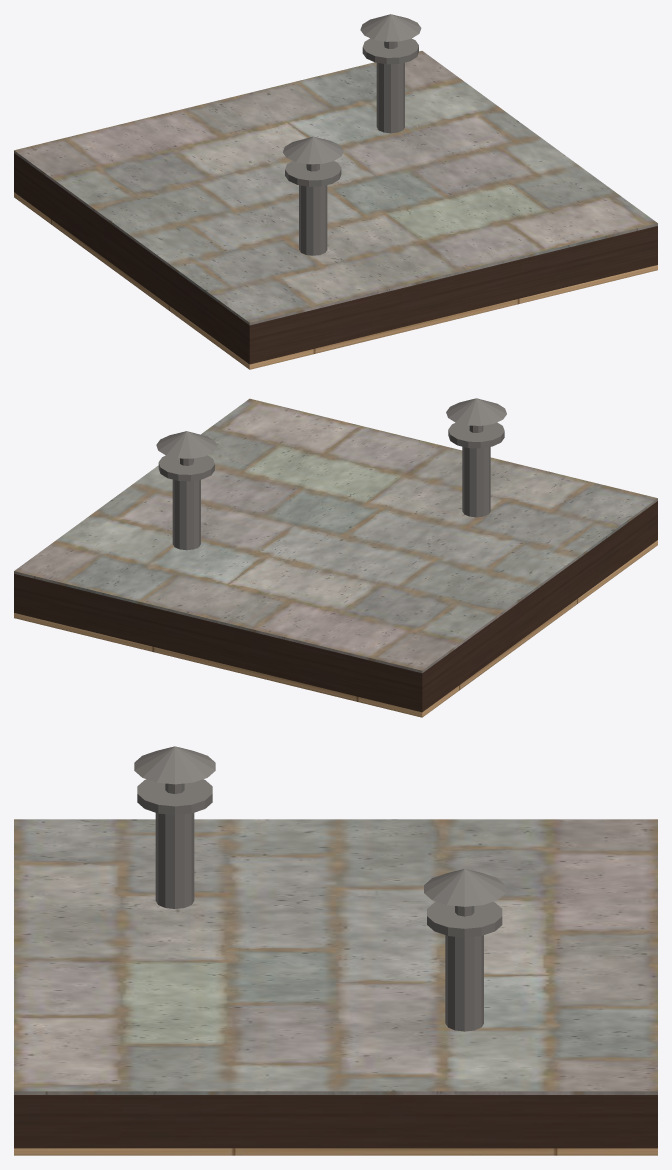
Rendered from deck_vent.glb.
3 views of the same model, one above another, from view 1: azimuth 30°, elevation 25°; view 2: azimuth 150°, elevation 25°; view 3: azimuth 270°, elevation 25° (orthographic). The views are drawn at different scales.
Visible parts, largest first — view 1: deck_vent_roofdeck, deck_vent_fascia, deck_vent_metal, deck_vent_ceiling; view 2: deck_vent_roofdeck, deck_vent_fascia, deck_vent_metal, deck_vent_ceiling; view 3: deck_vent_roofdeck, deck_vent_fascia, deck_vent_metal, deck_vent_ceiling.
Part boxes in pixels (x1,y1,x2,y2): deck_vent_roofdeck: (14,51,657,325); deck_vent_fascia: (14,153,657,364); deck_vent_metal: (283,14,421,255); deck_vent_ceiling: (14,192,657,369); deck_vent_roofdeck: (14,398,657,672); deck_vent_fascia: (14,501,657,712); deck_vent_metal: (156,398,506,550); deck_vent_ceiling: (14,540,657,717); deck_vent_roofdeck: (14,819,657,1094); deck_vent_fascia: (14,1095,657,1148); deck_vent_metal: (134,746,505,1031); deck_vent_ceiling: (14,1148,657,1155).
Size of the model in its own units: 2 by 0.75 by 2.
Materials: 4 (3 with a texture image).
